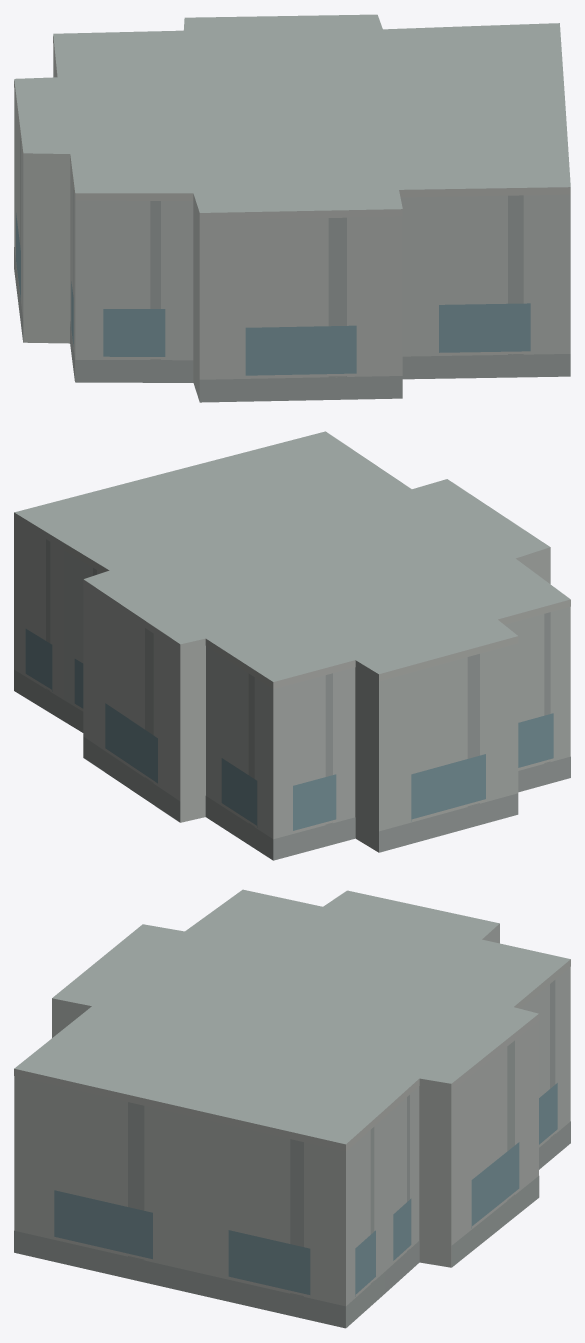
The model's file is survey-upis-33008267.glb.
3 views of the same model, one above another, from view 1: azimuth 30°, elevation 25°; view 2: azimuth 150°, elevation 25°; view 3: azimuth 270°, elevation 25° (orthographic). The views are drawn at different scales.
Parts seen in each view (by area): view 1: survey-upis-33008267.tmp; view 2: survey-upis-33008267.tmp; view 3: survey-upis-33008267.tmp.
Part boxes in pixels (left/top/right/bottom): survey-upis-33008267.tmp: left=14, top=14, right=570, bottom=402; survey-upis-33008267.tmp: left=14, top=431, right=570, bottom=860; survey-upis-33008267.tmp: left=14, top=889, right=570, bottom=1328.
Bounding box in the file's own units: 18.13 × 6.1 × 16.74.
